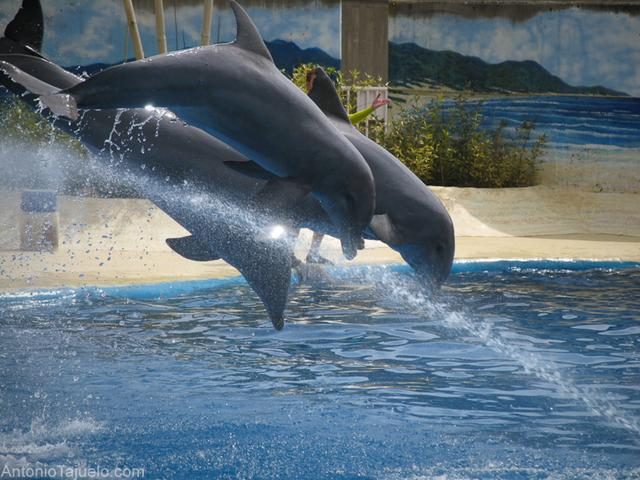dolphin: (53, 17, 449, 251)
